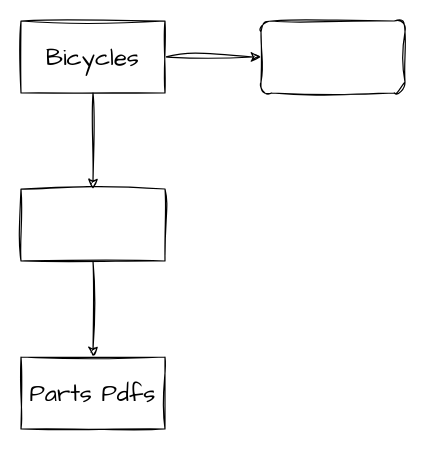
This 426x450 diagram has some shape labels left out. Each missing label, with the centre of its shape:
"Bicycle Parts" goes at point 92,224.
"Bicycle Pdfs" goes at point 332,56.
